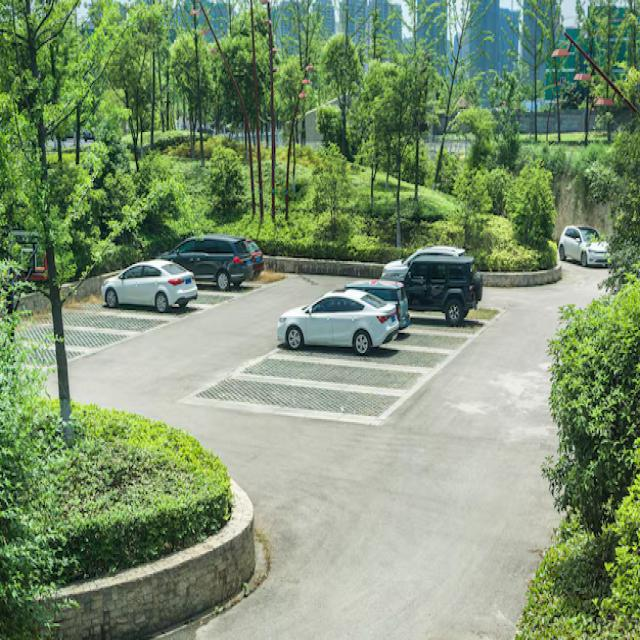libre: (191, 369, 414, 433), (232, 346, 438, 394), (5, 311, 135, 357), (36, 299, 178, 336)
ocupado: (272, 289, 461, 377), (357, 247, 503, 325), (151, 229, 283, 300), (94, 252, 215, 321), (369, 287, 476, 357), (302, 269, 360, 291)
